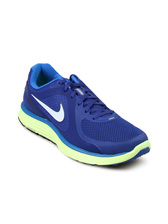shoes: (12, 62, 157, 166)
